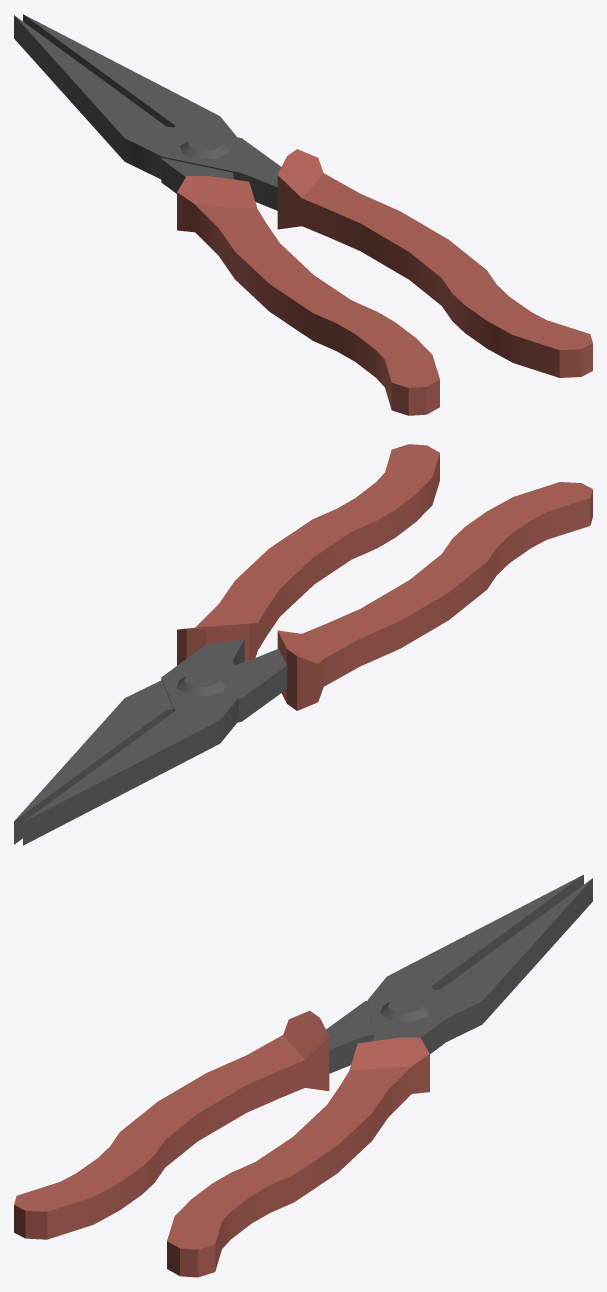
The model's file is pliers.glb.
3 renders of one model, top to bottom at view 1: azimuth 30°, elevation 25°; view 2: azimuth 150°, elevation 25°; view 3: azimuth 330°, elevation 25°, orthographic.
Parts seen in each view (by area): view 1: Plane; view 2: Plane; view 3: Plane.
Boxes of the visible parts, x1,y1,x2,y2 form: Plane: (14, 14, 592, 415); Plane: (14, 444, 592, 845); Plane: (14, 874, 592, 1277).
Bounding box in the file's own units: 4.14 × 1.09 × 17.54.
